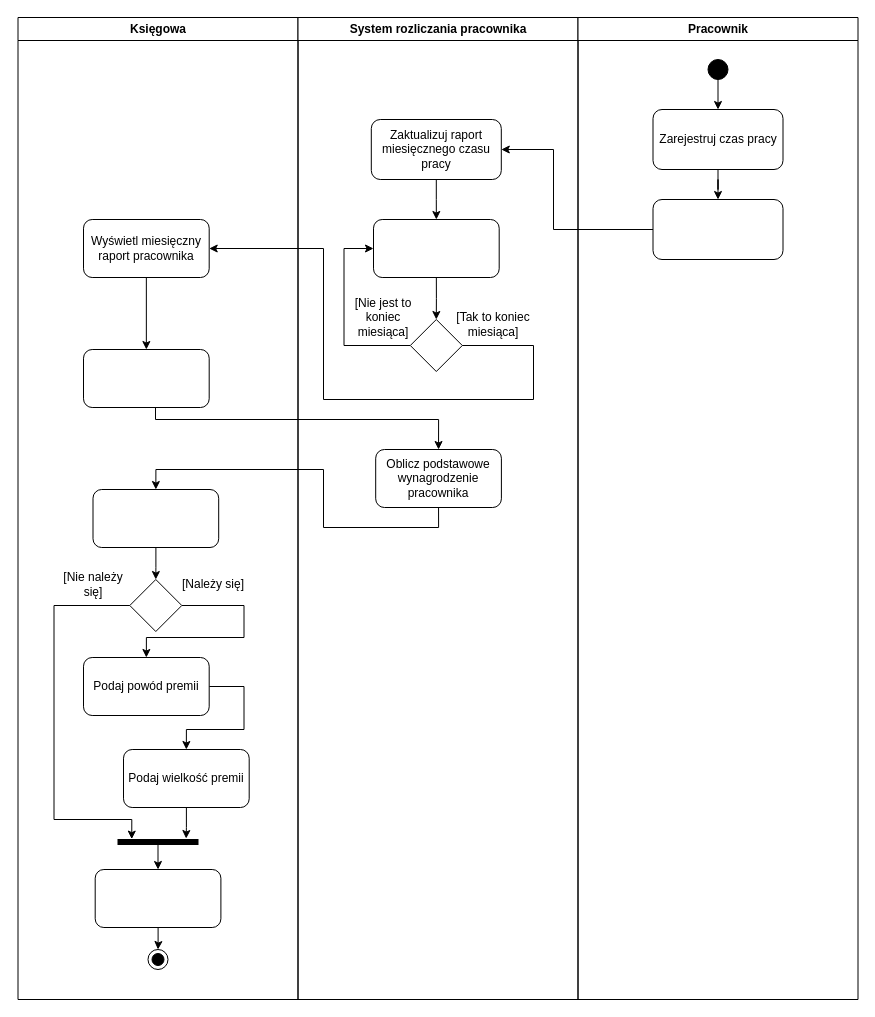
This 875x1017 diagram has some shape labels left out. Here are the shapes that lost their labels. From the top down, the centre of each, then its label:
the point at 435,248: Sprawdź czy koniec miesiąca
the point at 717,229: Podaj datę oraz ramy czasowe
the point at 145,378: Zatwierdź miesięczny czas pracy
the point at 155,518: Zadecyduj o premii
the point at 157,898: Rozlicz pracownika
